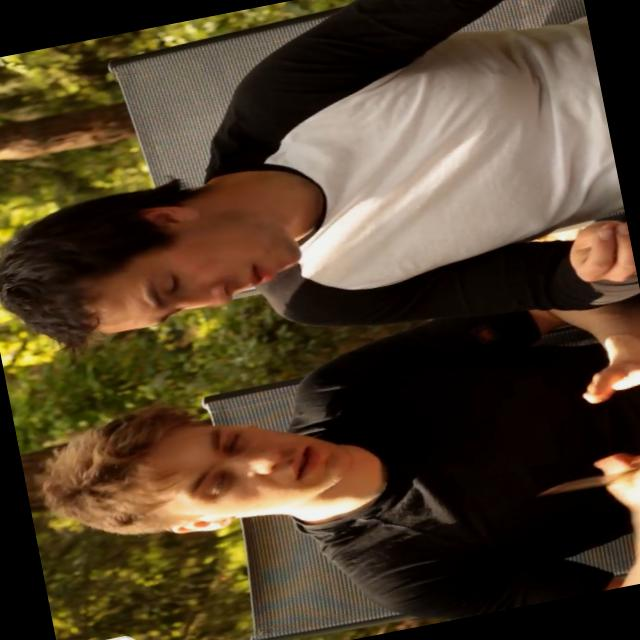knife: (516, 435, 639, 524)
